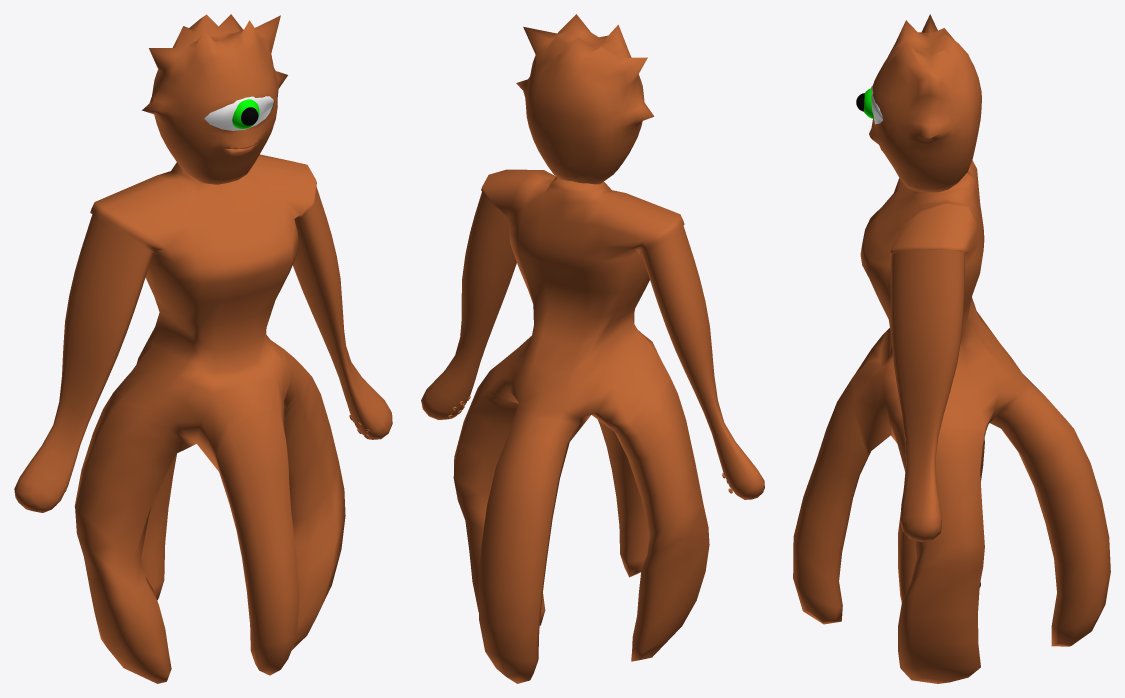
The model's file is normalOrange.fbx.
3 views of the same model, side by side, from view 1: azimuth 30°, elevation 25°; view 2: azimuth 150°, elevation 25°; view 3: azimuth 270°, elevation 25° (orthographic). The views are drawn at different scales.
Parts seen in each view (by area): view 1: polySurface21, head, polySurface18, polySurface10, eyeWhite; view 2: polySurface21, head, polySurface18, polySurface10; view 3: polySurface21, polySurface10, head.
Part boxes in pixels (bbox=[...]): polySurface21: bbox=[74, 154, 345, 683]; head: bbox=[142, 14, 287, 184]; polySurface18: bbox=[14, 213, 153, 512]; polySurface10: bbox=[292, 187, 392, 439]; eyeWhite: bbox=[204, 96, 273, 130]; polySurface21: bbox=[453, 169, 709, 683]; head: bbox=[516, 14, 654, 184]; polySurface18: bbox=[642, 225, 764, 499]; polySurface10: bbox=[421, 192, 516, 419]; polySurface21: bbox=[793, 160, 1110, 683]; polySurface10: bbox=[890, 249, 965, 542]; head: bbox=[869, 14, 981, 192].
Bounding box in the file's own units: 8.67 × 14.61 × 6.74.
